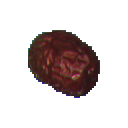gd: (22, 21, 119, 108)
